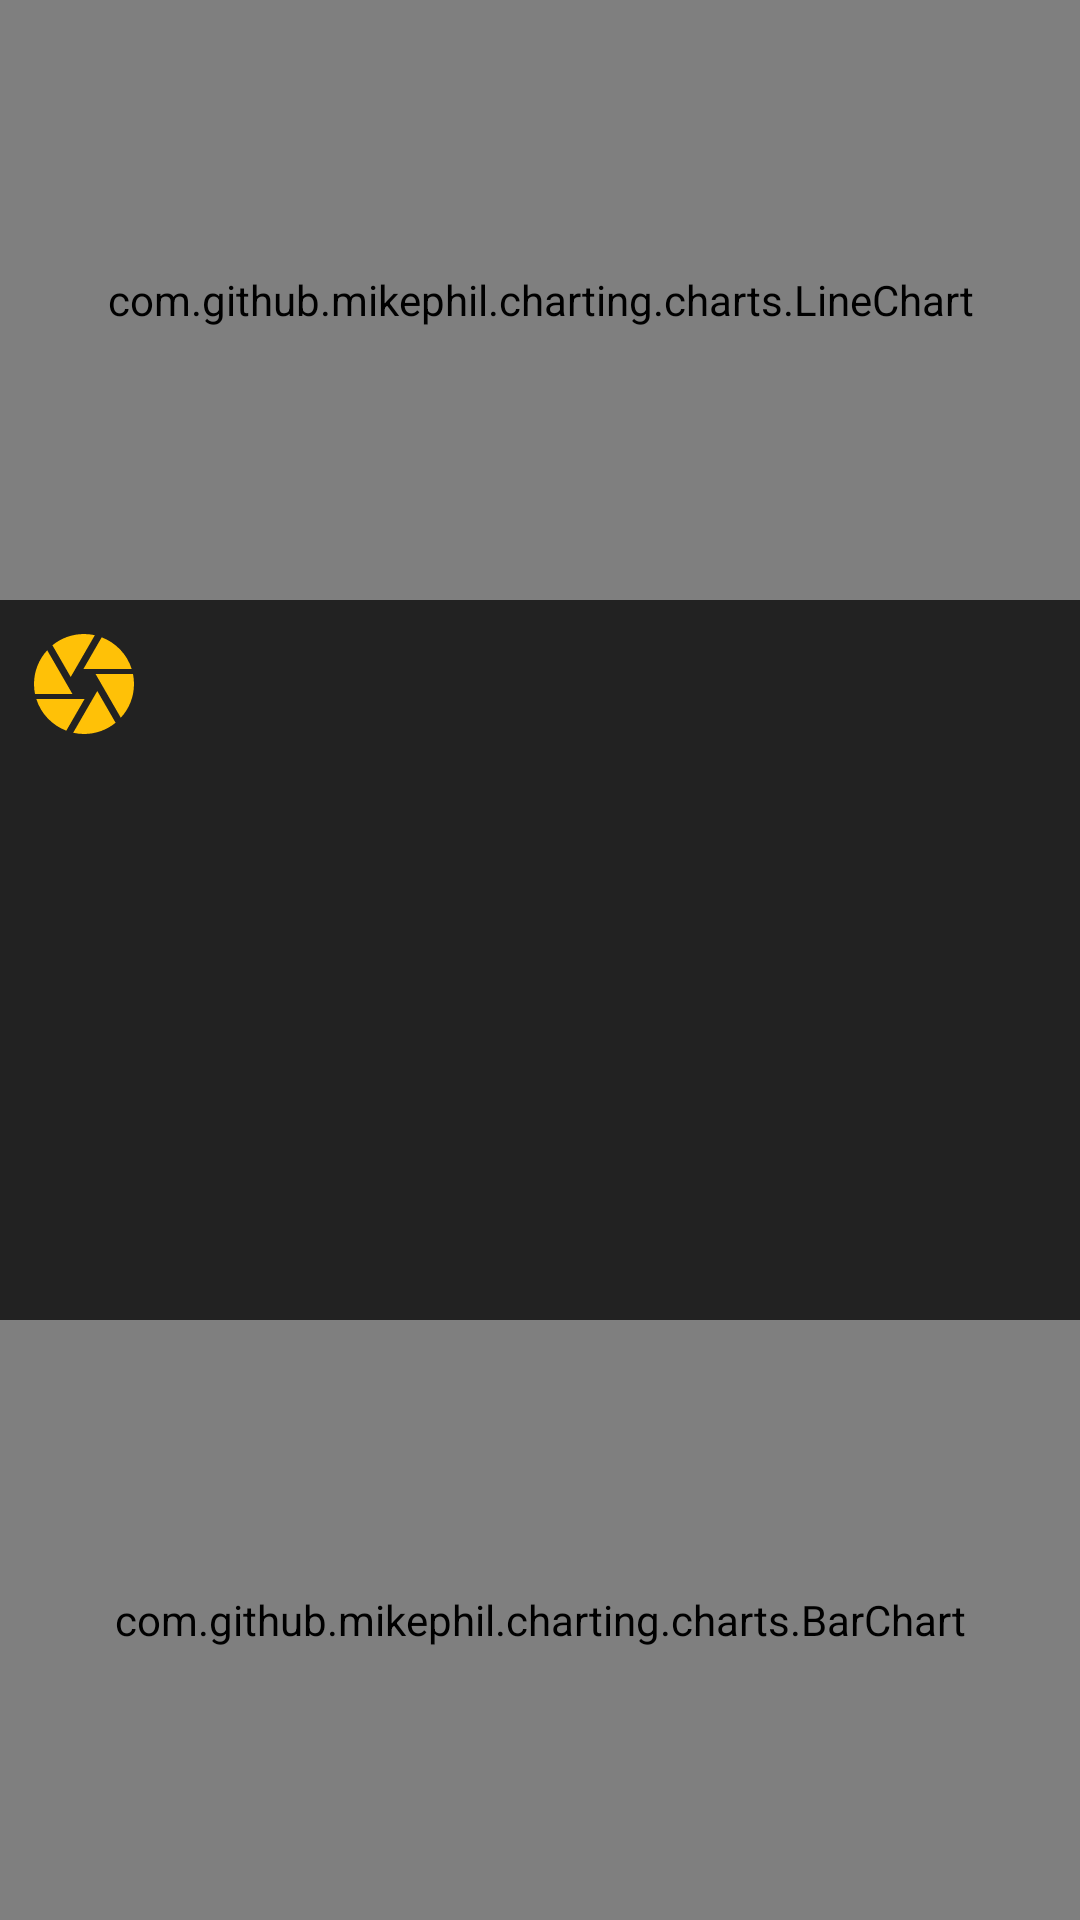

Icon bounding boxes for this 1080px×1920px phone screenshot, format (x1, y1, x2, y2):
Take snapshot button: (34, 634, 134, 734)
